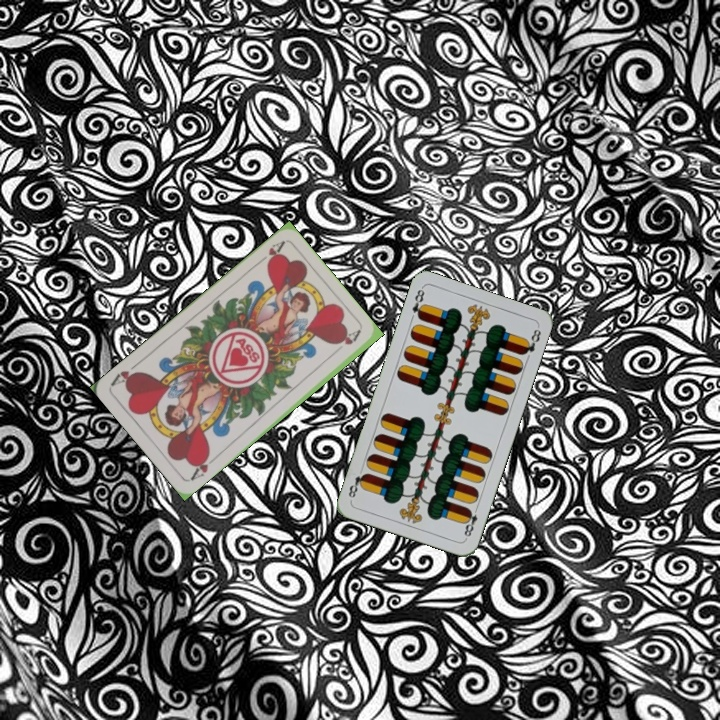E8: (460, 502, 481, 541), (408, 284, 428, 322)
HA: (186, 449, 220, 484), (252, 237, 287, 269)
